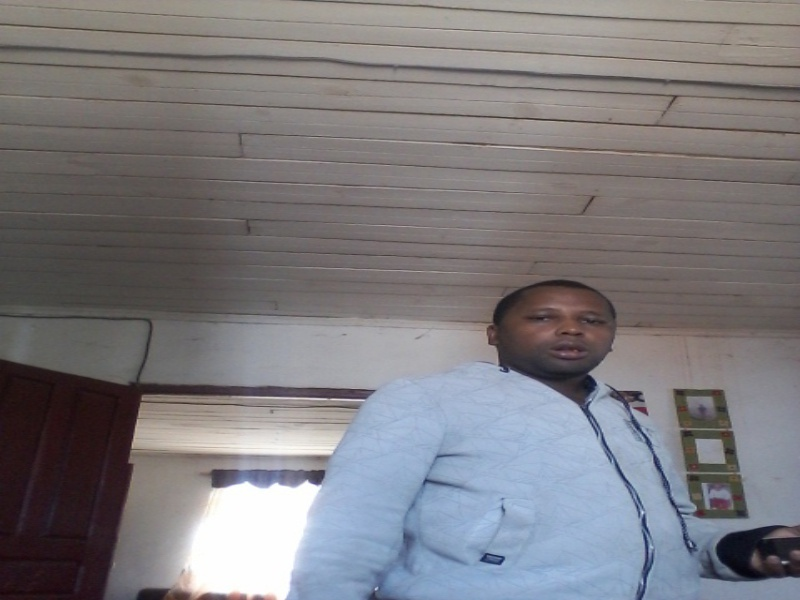TsisyArotava: (484, 267, 625, 391)
